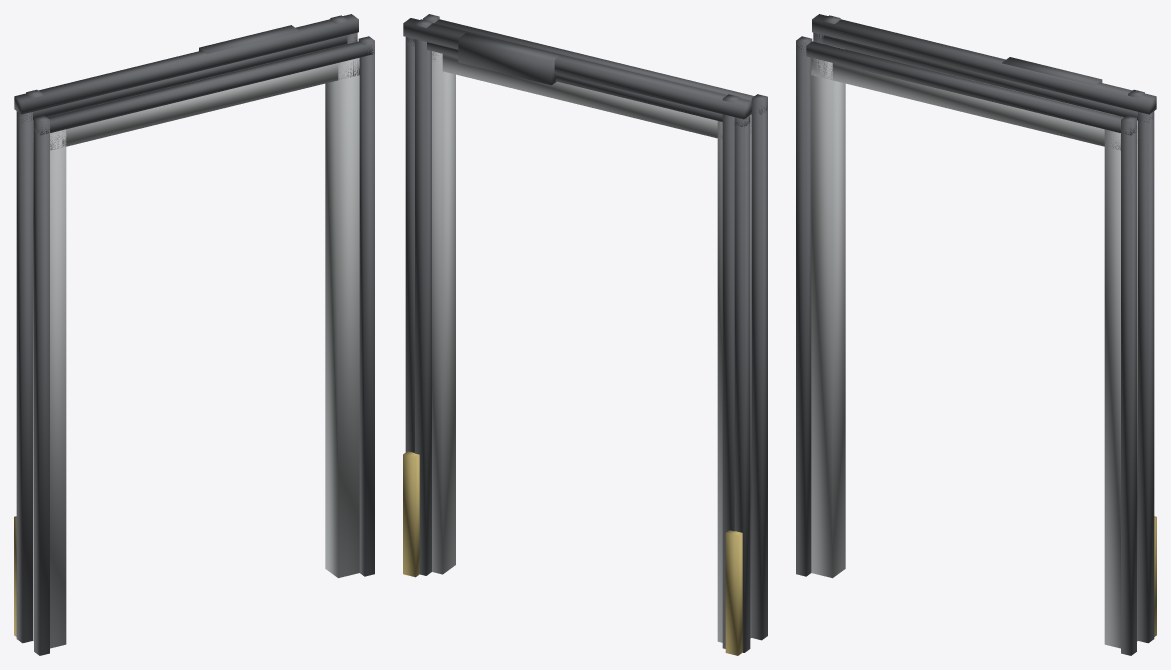
Rendered from bay_opening_loading_bay_w240_h420_d20.glb.
3 views of the same model, side by side, from view 1: azimuth 30°, elevation 25°; view 2: azimuth 150°, elevation 25°; view 3: azimuth 330°, elevation 25° (orthographic).
Parts seen in each view (by area): view 1: world; view 2: world; view 3: world.
Boxes of the visible parts, x1,y1,x2,y2 form: world: (14,14,374,655); world: (403,14,767,655); world: (796,14,1156,655).
Bounding box in the file's own units: 2.98 × 4.59 × 0.422.
